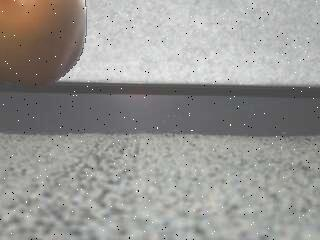Potato: (0, 0, 89, 88)
